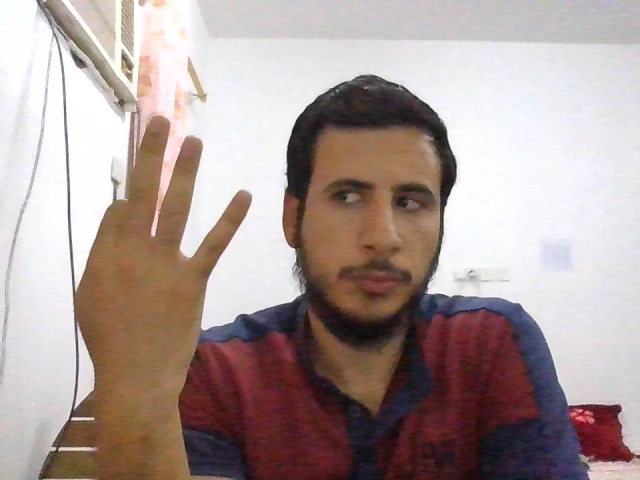Three: (77, 115, 252, 371)
